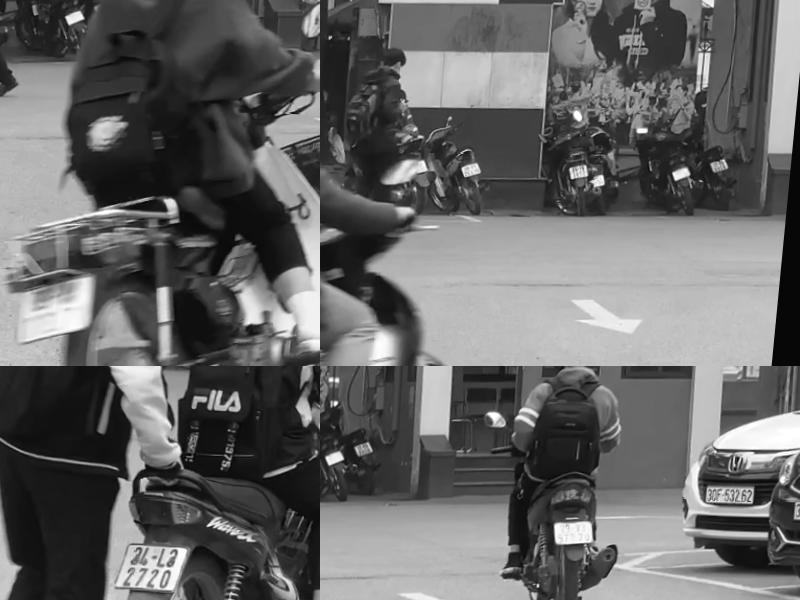license_plate: (24, 269, 109, 346), (122, 540, 197, 591), (560, 517, 602, 542), (328, 447, 352, 467), (68, 3, 89, 25), (466, 158, 489, 176), (356, 439, 378, 456), (574, 160, 596, 176), (677, 160, 697, 177), (715, 153, 736, 169)
motorcyclist: (15, 0, 320, 366), (320, 14, 527, 366), (122, 366, 320, 600), (490, 366, 642, 600)
